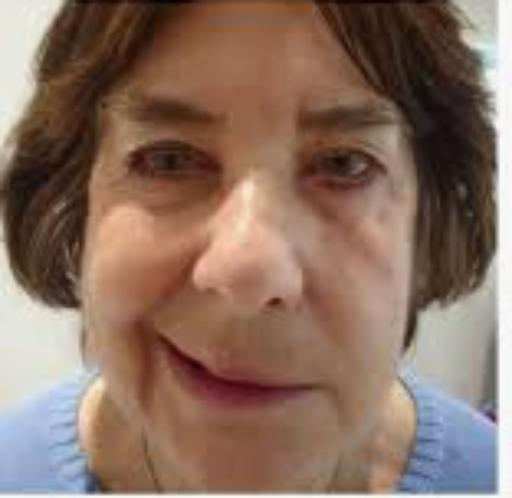left_eye: (307, 152, 384, 184)
left_lip_corner: (300, 378, 337, 403)
right_eye: (130, 149, 216, 185)
right_lip_corner: (145, 322, 183, 362)
